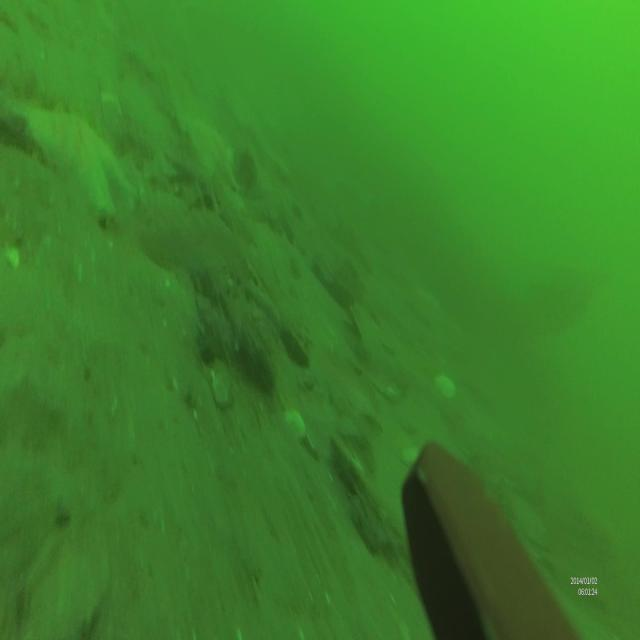echinus: (236, 151, 257, 192), (2, 111, 27, 141)
starfish: (22, 94, 134, 224)
